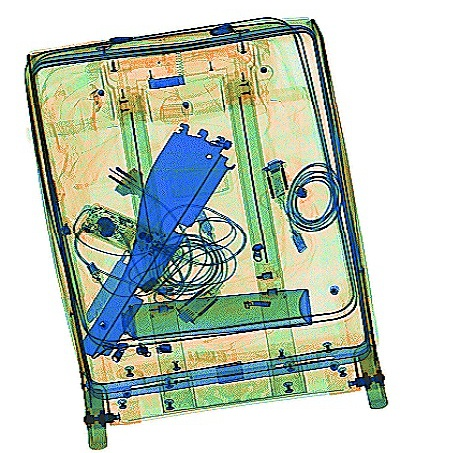knife: (84, 200, 162, 323)
pressure: (91, 286, 314, 347)
